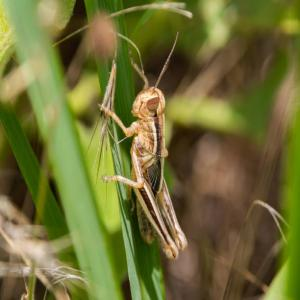locust: (100, 14, 189, 263)
